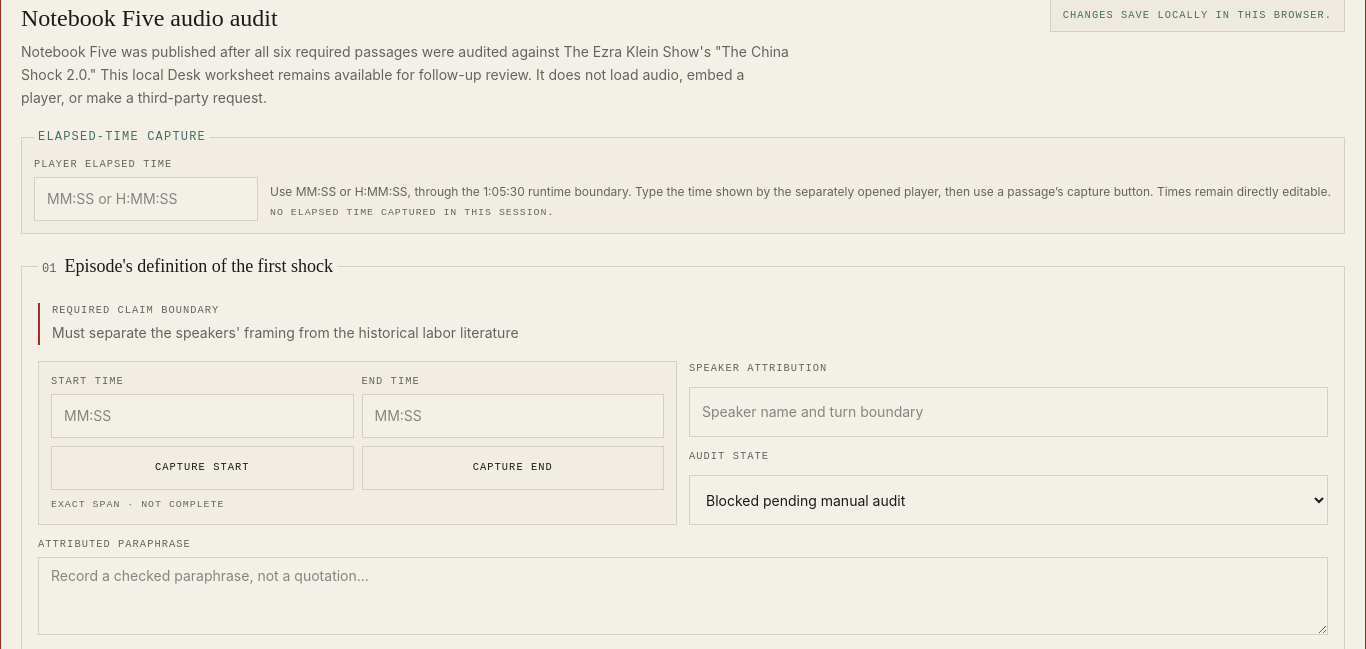
Scenario: NotebookFiveAudioAudit › captures a normalized exact span from a separately operated player
In the field labelled "Player elapsed time": point(146, 199) x1=34 y1=177 x2=258 y2=221, type "12:34"
(page scrolled)
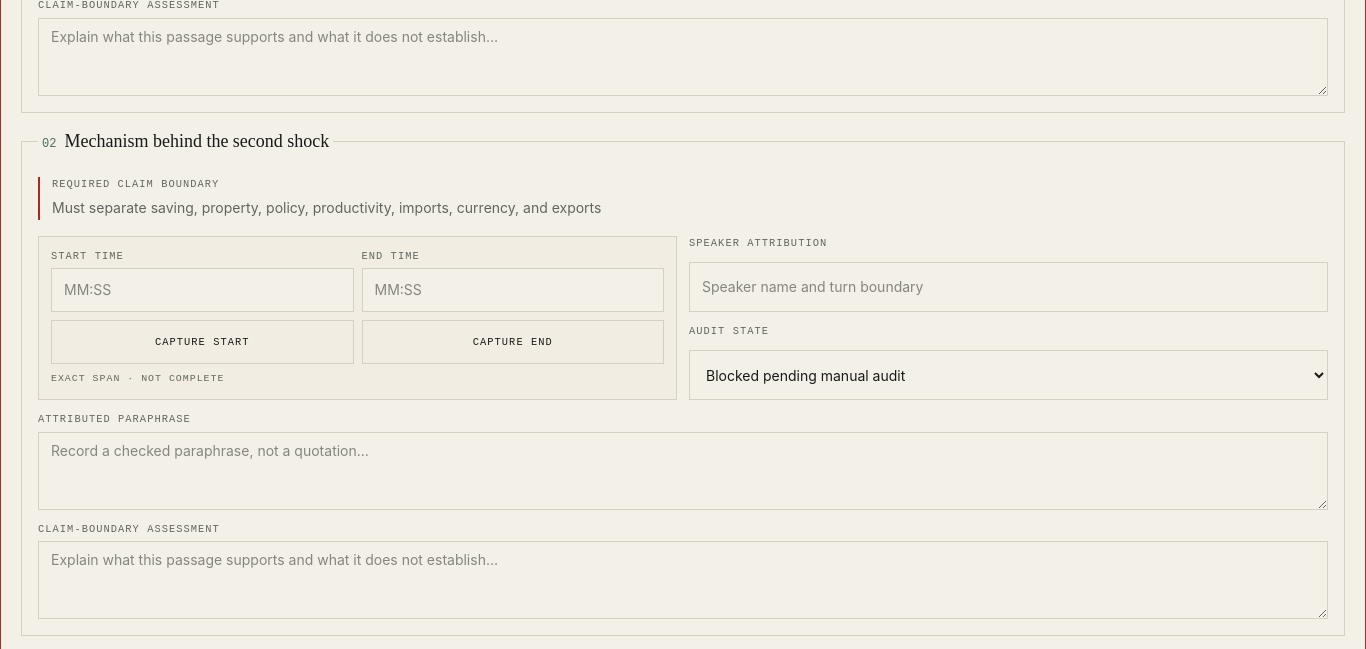
Click the button with aria-label "Capture start for Mechanism behind the second shock": point(202, 342) x1=51 y1=320 x2=354 y2=364
(page scrolled)
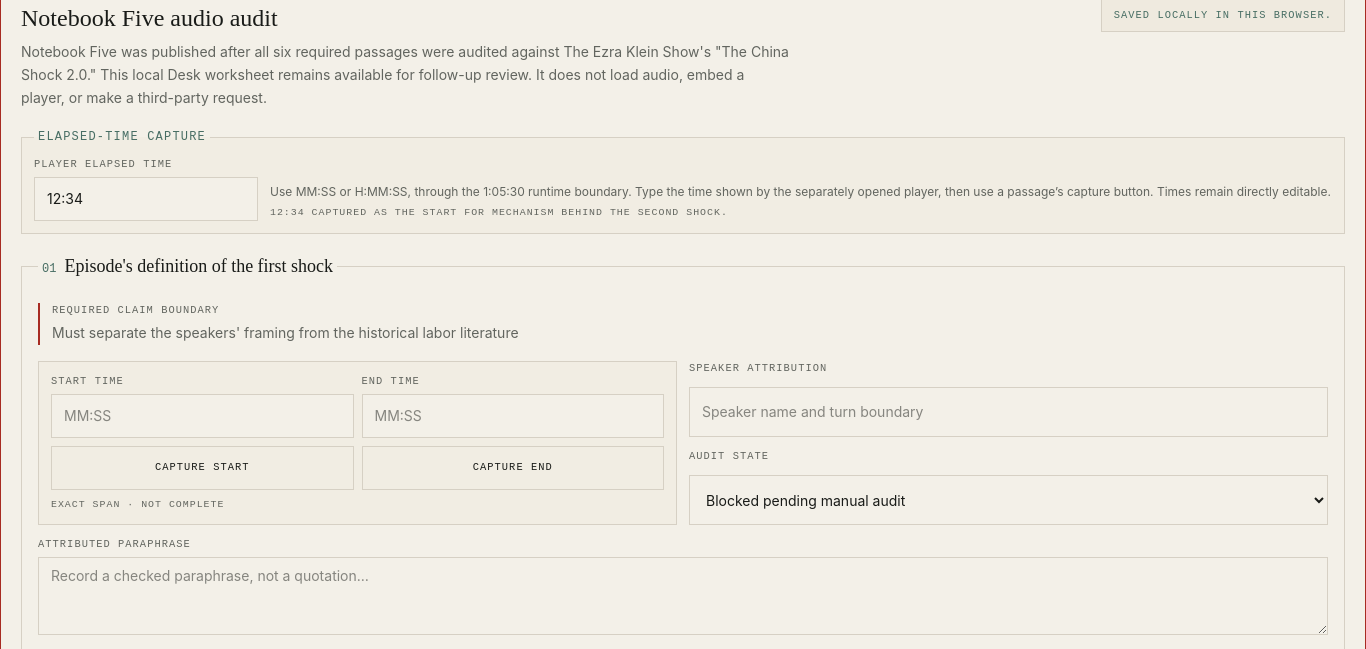
Replace the text in the field labelled "Player elapsed time" with "13:02": point(146, 199) x1=34 y1=177 x2=258 y2=221
(page scrolled)
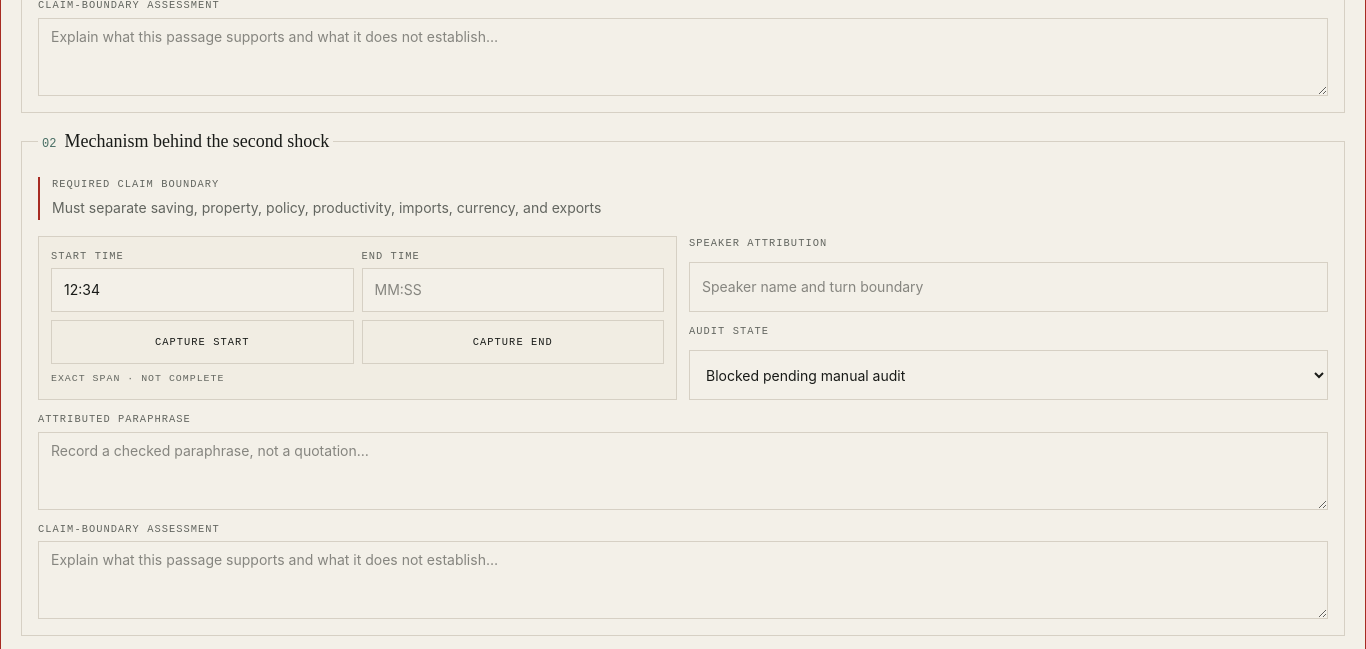
Click the button with aria-label "Capture end for Mechanism behind the second shock": point(513, 342) x1=362 y1=320 x2=664 y2=364
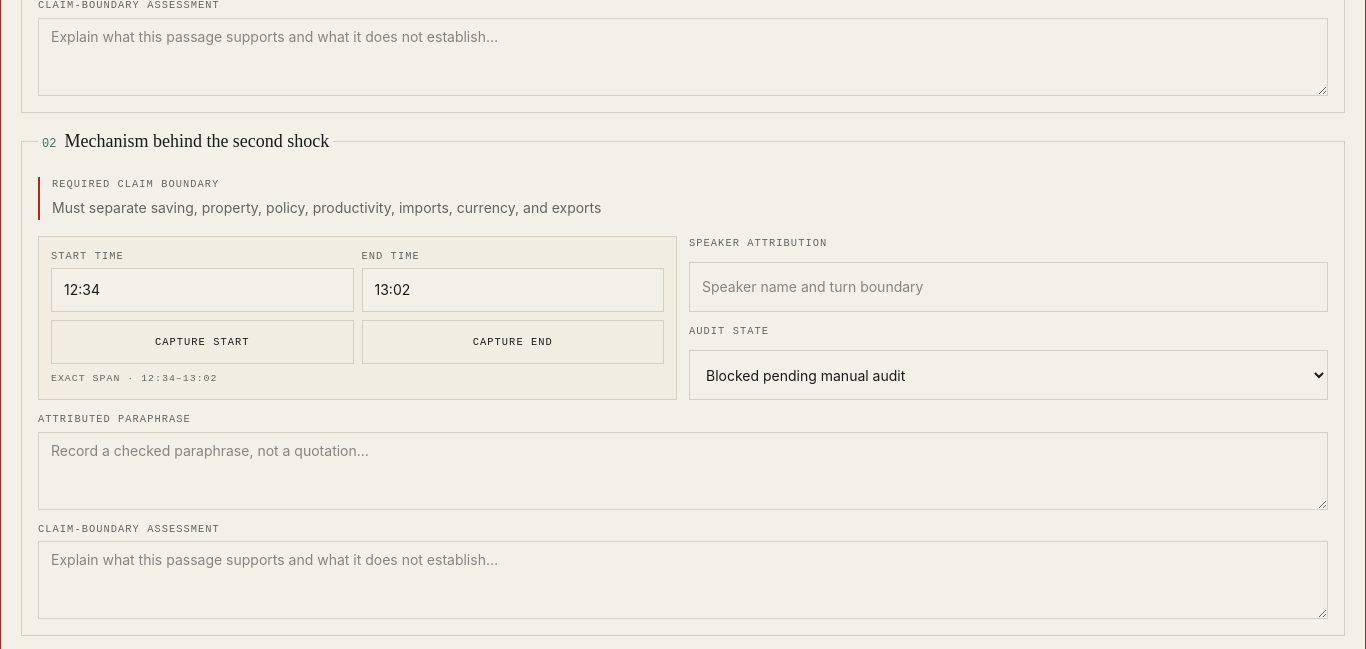
Check: the field named "End time for Mechanism behind the second shock" holds "13:02", box x1=362 y1=268 x2=664 y2=312
Check: the text "Exact span · 12:34–13:02" is shown, box x1=51 y1=373 x2=218 y2=384
